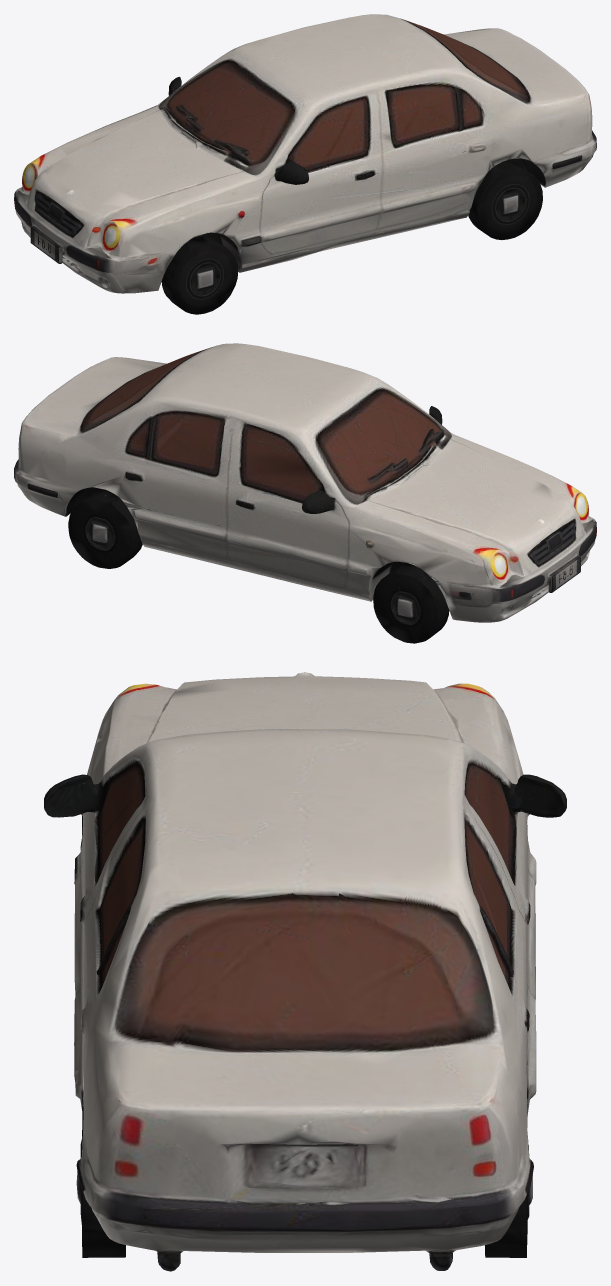
The model's file is car.glb.
3 renders of one model, top to bottom at view 1: azimuth 30°, elevation 25°; view 2: azimuth 150°, elevation 25°; view 3: azimuth 270°, elevation 25°, orthographic. The views are drawn at different scales.
Bounding box in the file's own units: 1.9 × 0.6155 × 0.834.
1 material, 1 textured.
